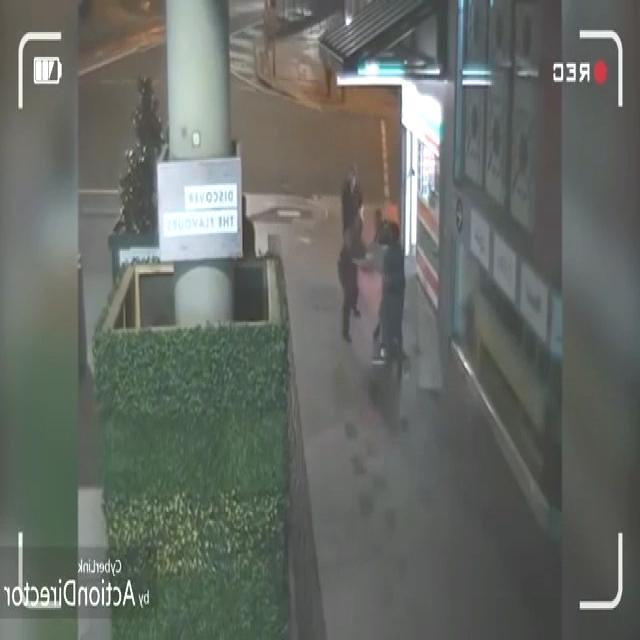fight: (337, 207, 405, 371)
